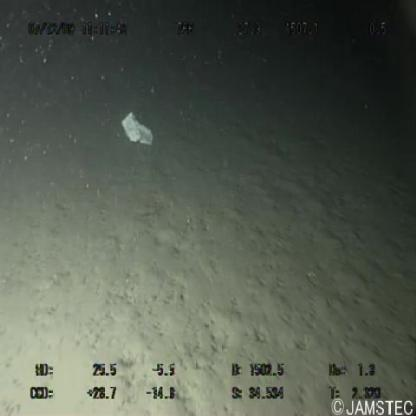Rác: (117, 107, 157, 150)
